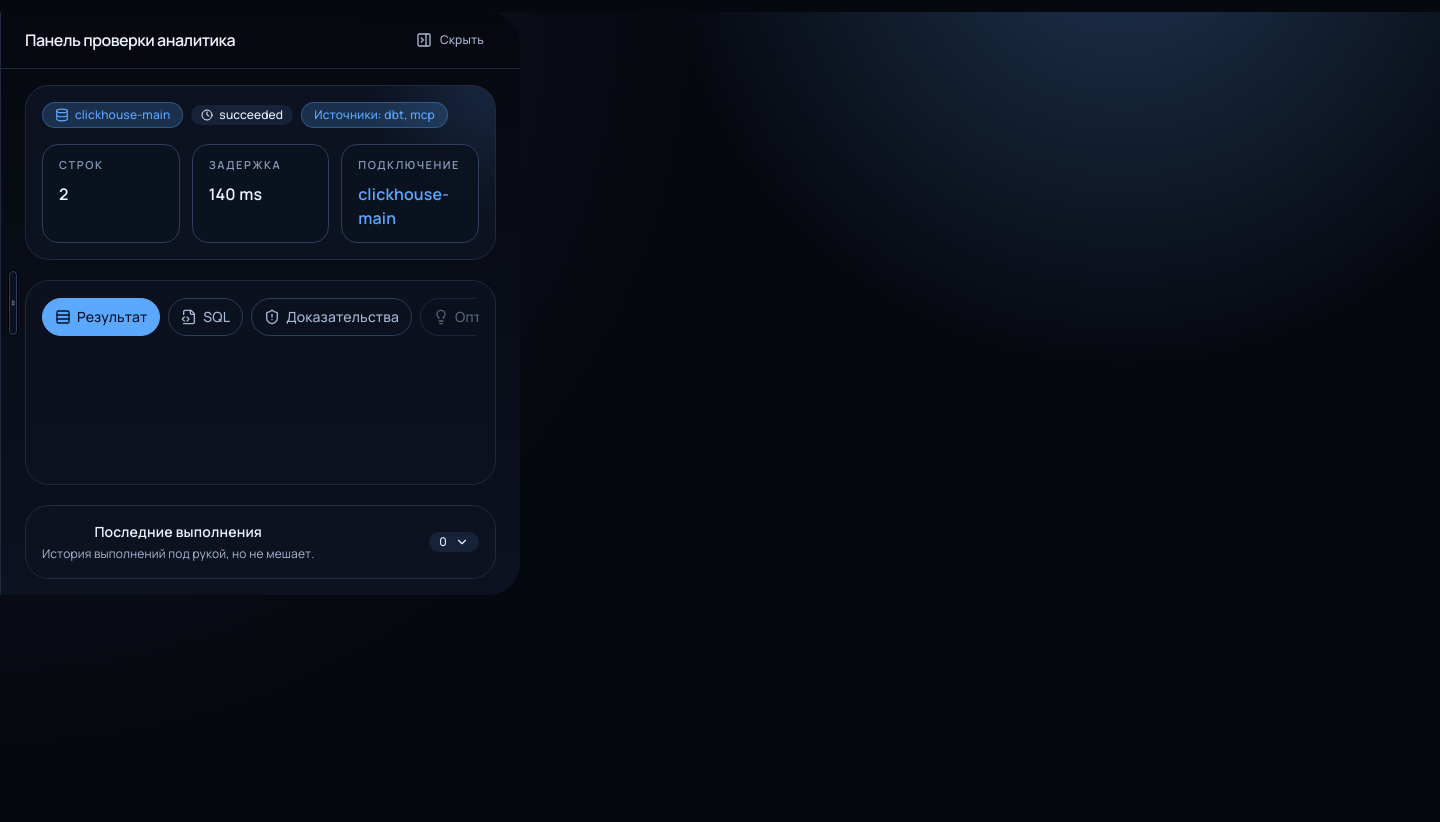
Test: ResultSurface › renders duplicate claim ids without colliding React keys
The width and height of the screenshot is (1440, 822).
Step 1. Click the button "Доказательства" → (332, 316), box [251,298,412,336]
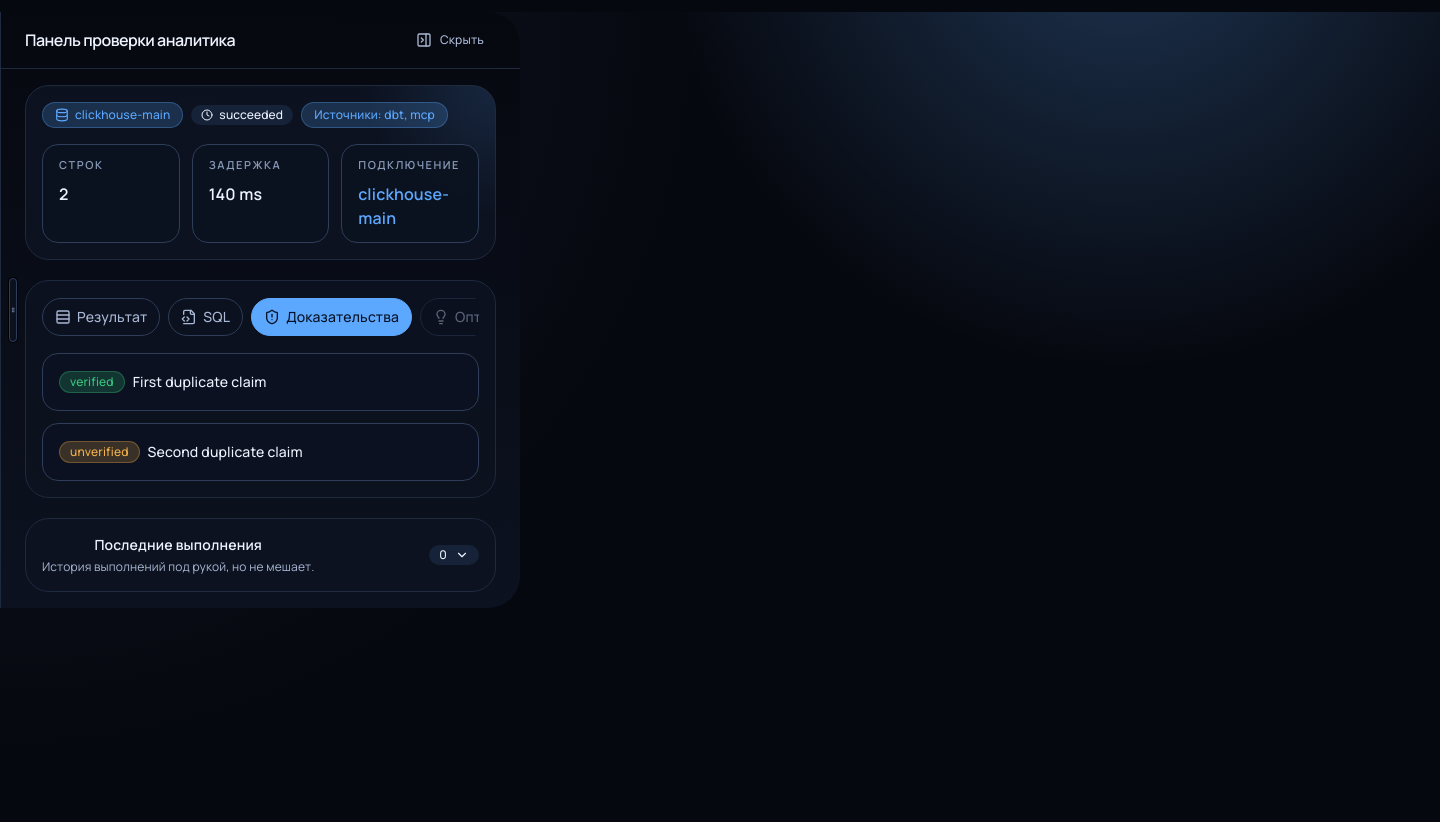
expect the text "First duplicate claim" is shown: met, box [133,370,267,394]
expect the text "Second duplicate claim" is shown: met, box [148,440,303,464]
